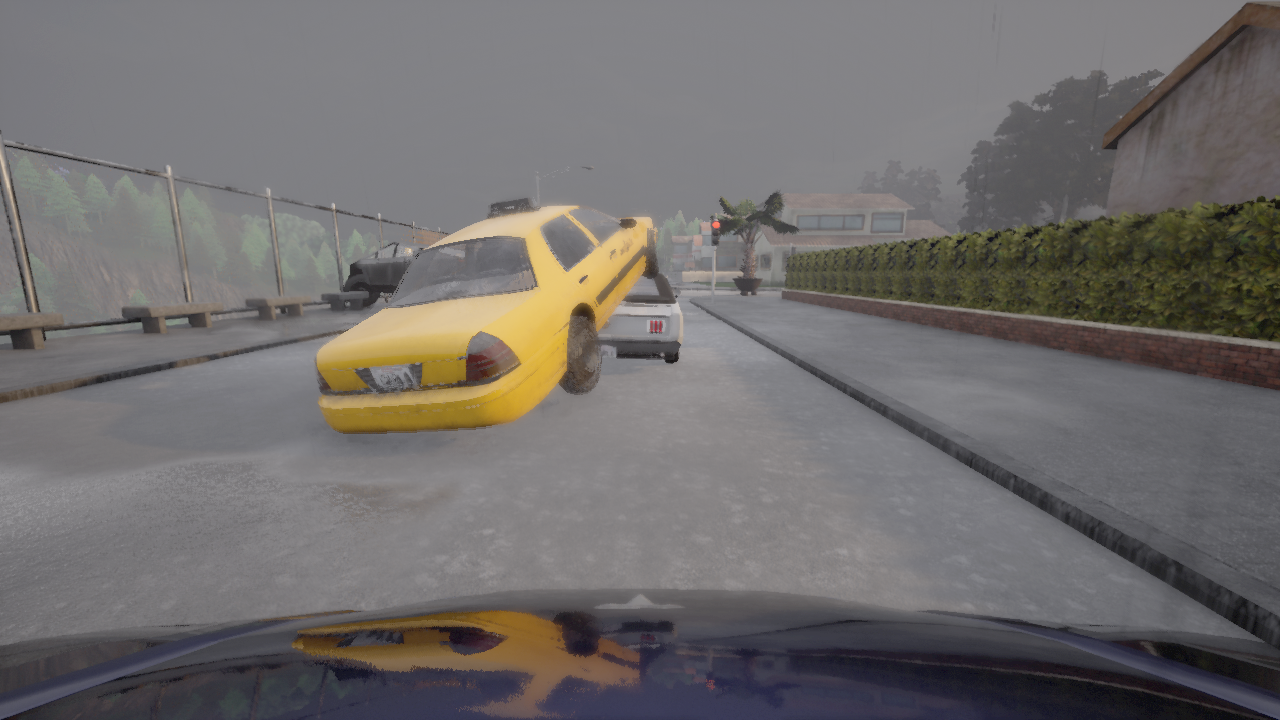cyclist: (0, 588, 1279, 719), (314, 195, 657, 432), (598, 274, 683, 362), (344, 242, 432, 306)
